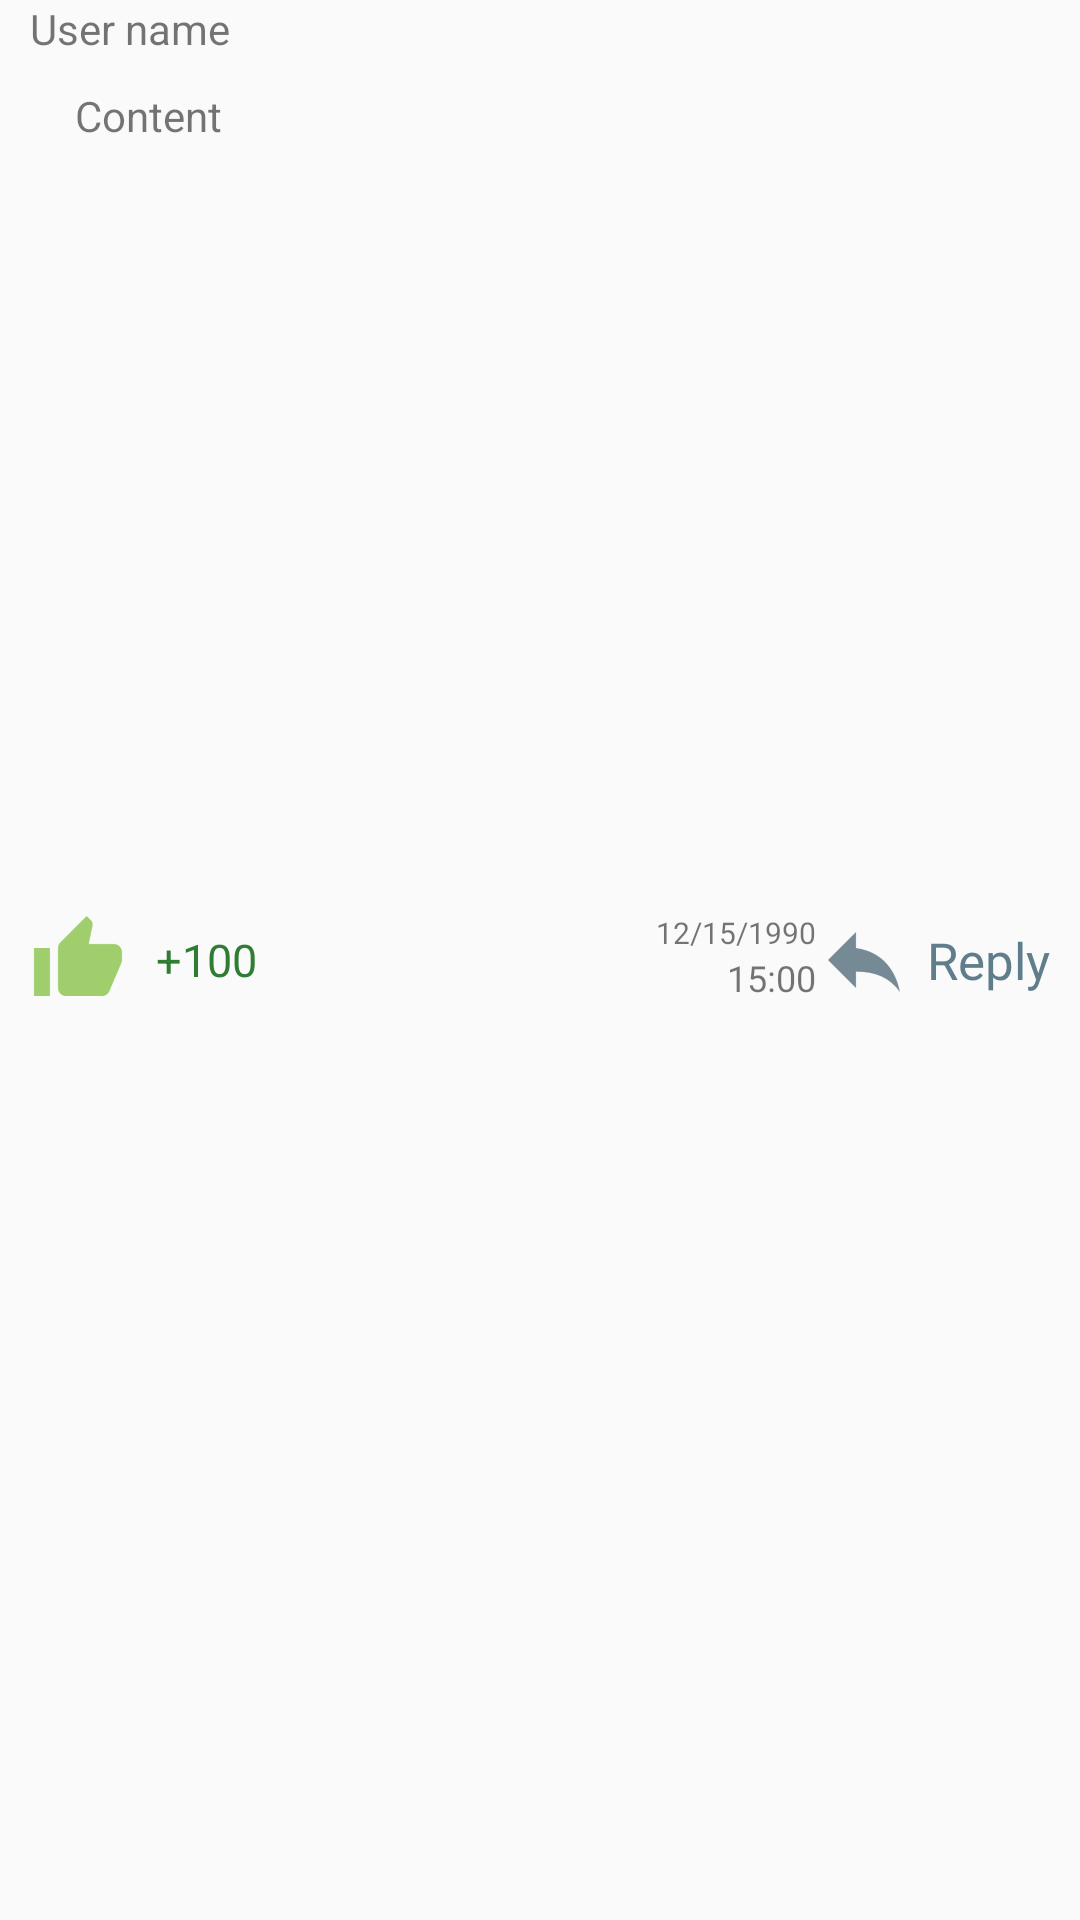

Named icons in this screenshot (1080px×1920px) and their bounding boxes, (x1, y1, x2, y2):
like on: (34, 916, 122, 996)
